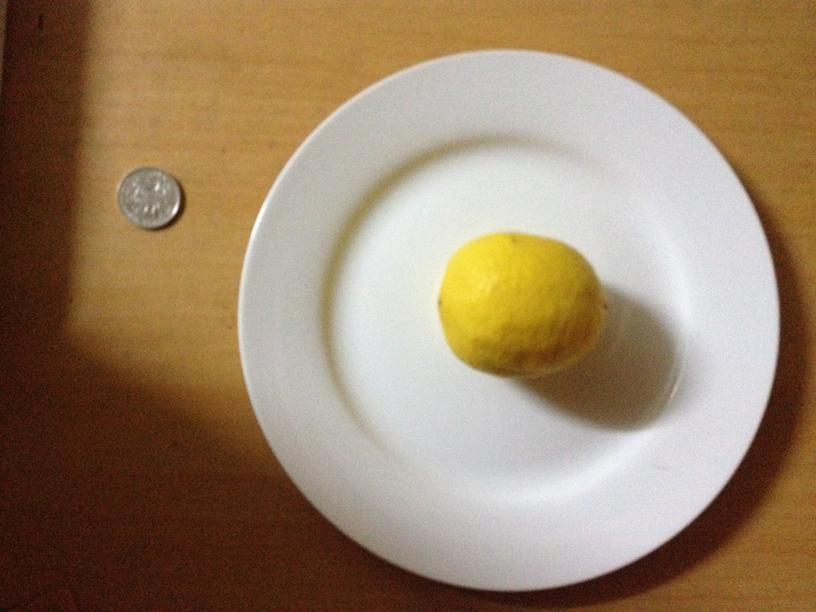coin: (115, 168, 183, 230)
lemon: (432, 231, 603, 380)
